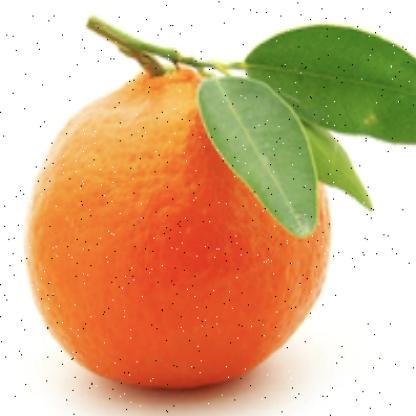fresh: (24, 45, 333, 390)
